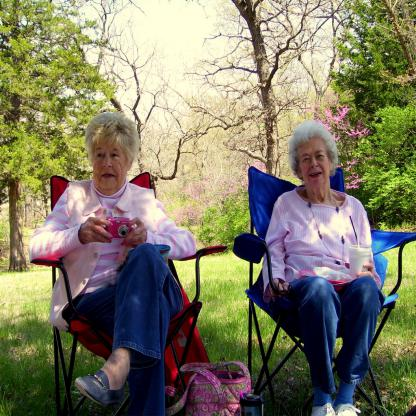Camera: (106, 217, 132, 241)
